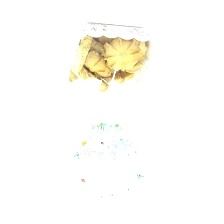snack: (59, 15, 167, 211)
